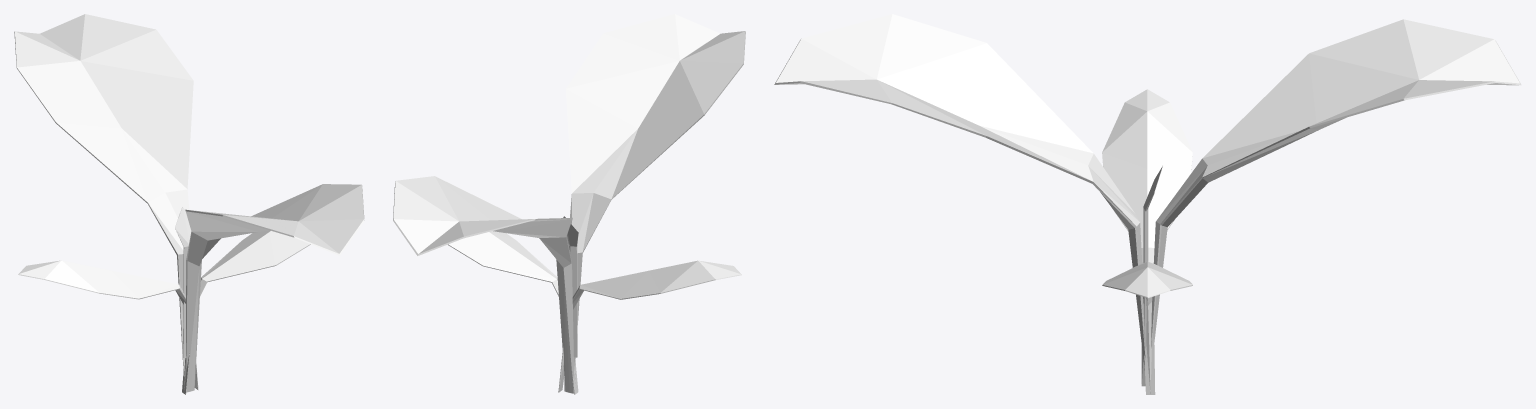
The model's file is Crop_Cabbage_STAGE_1_01.glb.
3 views of the same model, side by side, from view 1: azimuth 30°, elevation 25°; view 2: azimuth 150°, elevation 25°; view 3: azimuth 270°, elevation 25° (orthographic). The views are drawn at different scales.
Visible parts, largest first — view 1: Crop_Cabbage_STAGE_1_01; view 2: Crop_Cabbage_STAGE_1_01; view 3: Crop_Cabbage_STAGE_1_01.
Part boxes in pixels (x1,y1,x2,y2): Crop_Cabbage_STAGE_1_01: [14, 14, 364, 394]; Crop_Cabbage_STAGE_1_01: [393, 14, 745, 394]; Crop_Cabbage_STAGE_1_01: [774, 14, 1521, 394].
Bounding box in the file's own units: 0.2362 × 0.1761 × 0.3577.
1 material, 1 textured.
